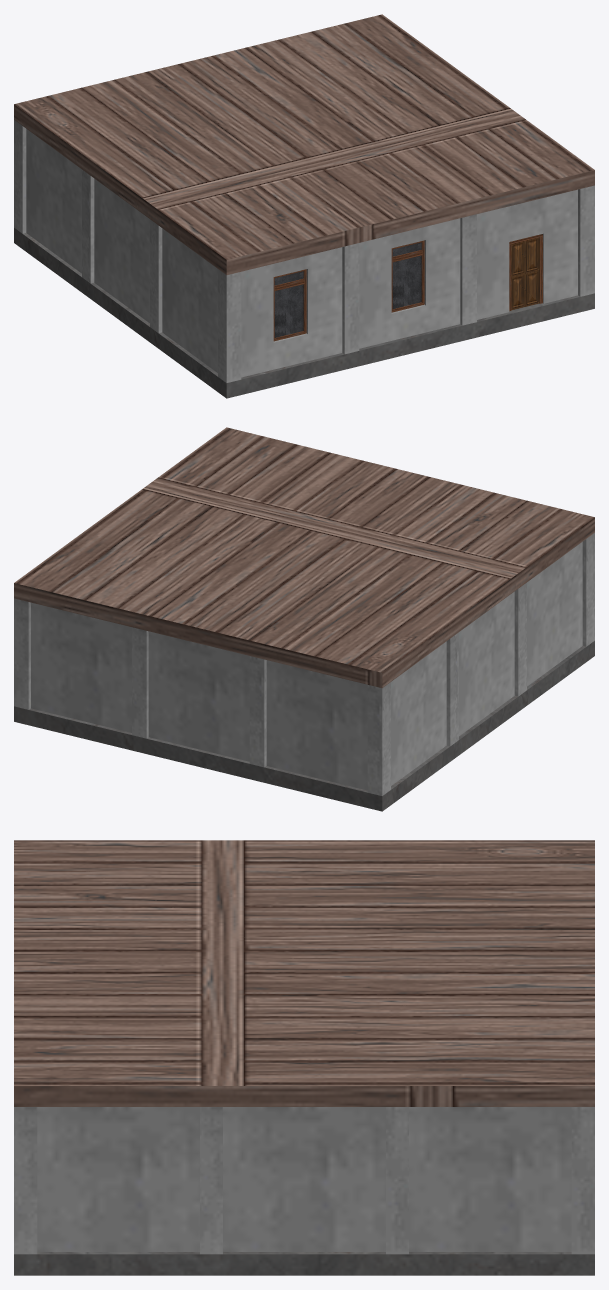
The model's file is Kontrakan.fbx.
3 views of the same model, one above another, from view 1: azimuth 30°, elevation 25°; view 2: azimuth 150°, elevation 25°; view 3: azimuth 270°, elevation 25° (orthographic). The views are drawn at different scales.
Visible parts, largest first — view 1: Cube.057, Cube.021, Cube.017, Cube.054, Cube.014, Cube.051, Cube.053, Cube.042, Cube.043, Cube.018, Cube.016, Cube.011 (+9 smaller); view 2: Cube.057, Cube.040, Cube.037, Cube.035, Cube.021, Cube.042, Cube.053, Cube.051, Cube.041, Cube.038, Cube.034, Cube.036 (+3 smaller); view 3: Cube.057, Cube.012, Cube.023, Cube.039, Cube.021, Cube.011, Cube.034, Cube.022, Cube.024.
Part boxes in pixels (x1=…): Cube.057: x1=14, y1=14, x2=594, y2=275; Cube.021: x1=14, y1=228, x2=594, y2=398; Cube.017: x1=359, y1=218, x2=460, y2=348; Cube.054: x1=241, y1=247, x2=342, y2=377; Cube.014: x1=477, y1=189, x2=577, y2=319; Cube.051: x1=162, y1=228, x2=217, y2=372; Cube.053: x1=94, y1=178, x2=149, y2=322; Cube.042: x1=26, y1=129, x2=81, y2=273; Cube.043: x1=218, y1=269, x2=241, y2=382; Cube.018: x1=342, y1=243, x2=359, y2=354; Cube.016: x1=511, y1=237, x2=539, y2=310; Cube.011: x1=578, y1=185, x2=594, y2=296; Cube.057: x1=14, y1=427, x2=594, y2=688; Cube.040: x1=266, y1=660, x2=367, y2=790; Cube.037: x1=148, y1=631, x2=249, y2=761; Cube.035: x1=31, y1=602, x2=131, y2=732; Cube.021: x1=14, y1=641, x2=594, y2=811; Cube.042: x1=391, y1=641, x2=446, y2=785; Cube.053: x1=459, y1=591, x2=514, y2=735; Cube.051: x1=527, y1=542, x2=582, y2=686; Cube.041: x1=367, y1=682, x2=390, y2=795; Cube.038: x1=249, y1=656, x2=266, y2=767; Cube.034: x1=14, y1=598, x2=30, y2=709; Cube.036: x1=132, y1=627, x2=148, y2=738; Cube.057: x1=14, y1=840, x2=594, y2=1106; Cube.012: x1=37, y1=1107, x2=199, y2=1251; Cube.023: x1=223, y1=1107, x2=385, y2=1251; Cube.039: x1=409, y1=1107, x2=571, y2=1251; Cube.021: x1=14, y1=1252, x2=594, y2=1275; Cube.011: x1=14, y1=1107, x2=37, y2=1254; Cube.034: x1=571, y1=1107, x2=594, y2=1254; Cube.022: x1=200, y1=1107, x2=222, y2=1254; Cube.024: x1=386, y1=1107, x2=408, y2=1254.
Bounding box in the file's own units: 2500 × 900 × 2500.
6 materials, 6 textured.
